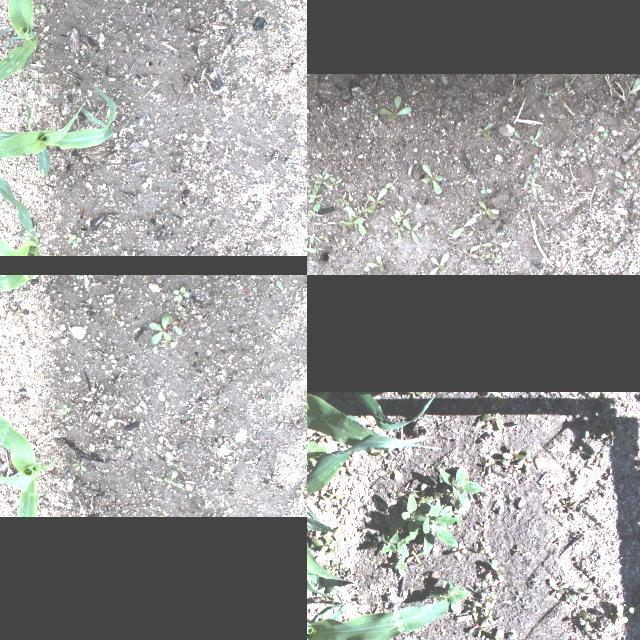crop: (307, 428, 375, 600), (0, 84, 119, 175), (307, 393, 440, 447), (307, 589, 447, 640), (0, 404, 54, 516), (0, 0, 37, 104), (0, 170, 43, 256), (352, 392, 438, 430)
weed: (400, 496, 456, 552), (440, 467, 482, 511), (28, 58, 52, 122), (428, 580, 468, 614), (144, 310, 180, 344), (376, 96, 412, 120), (366, 182, 394, 212), (381, 530, 411, 558), (337, 206, 365, 234), (450, 212, 478, 238), (439, 496, 463, 524), (420, 163, 442, 193), (524, 169, 544, 201), (160, 463, 184, 489), (469, 200, 499, 220), (307, 440, 330, 465), (310, 536, 340, 554), (62, 232, 86, 252), (613, 170, 637, 190), (402, 218, 420, 244), (482, 560, 503, 582), (429, 252, 449, 275), (393, 206, 412, 230), (548, 578, 570, 598), (274, 414, 294, 434), (578, 417, 598, 437), (481, 411, 501, 431), (389, 216, 405, 240), (136, 0, 156, 18), (154, 225, 172, 245), (364, 255, 384, 273), (171, 286, 191, 304), (526, 126, 542, 148), (579, 610, 595, 632), (31, 0, 52, 16), (116, 189, 140, 203), (614, 604, 626, 632), (468, 621, 489, 637), (411, 492, 441, 503), (474, 122, 492, 140), (600, 428, 618, 446), (554, 497, 576, 511), (340, 460, 358, 476), (392, 556, 406, 576), (237, 325, 256, 339), (479, 593, 491, 615), (631, 518, 640, 547), (294, 483, 307, 503), (334, 191, 350, 207), (70, 458, 86, 474), (171, 307, 187, 323), (308, 185, 322, 203), (56, 399, 70, 417), (453, 542, 467, 560), (501, 461, 523, 472), (324, 177, 344, 189), (314, 172, 330, 186), (311, 196, 325, 212), (622, 259, 636, 275), (578, 458, 594, 472), (312, 490, 326, 506), (407, 550, 425, 562), (594, 409, 608, 423), (485, 247, 501, 259), (462, 247, 478, 259), (469, 242, 493, 250), (484, 458, 496, 474), (481, 610, 494, 624), (307, 239, 317, 257), (68, 275, 87, 284), (317, 502, 331, 514), (590, 452, 604, 464), (337, 500, 349, 514), (10, 226, 20, 242), (504, 452, 524, 460), (328, 486, 340, 499), (0, 198, 9, 215), (307, 178, 316, 194), (580, 588, 592, 600), (573, 445, 587, 455), (629, 607, 640, 619), (518, 452, 530, 463), (122, 124, 138, 132), (486, 392, 502, 400), (632, 579, 640, 594), (478, 543, 490, 553), (408, 392, 426, 398), (370, 448, 388, 454), (307, 235, 320, 243), (564, 592, 574, 602), (597, 480, 607, 490), (336, 565, 346, 575), (478, 188, 492, 195), (510, 543, 518, 555), (532, 153, 538, 167), (470, 606, 476, 620), (598, 593, 610, 599), (594, 633, 604, 640), (635, 511, 640, 524), (493, 635, 506, 640), (496, 401, 504, 409), (477, 566, 483, 576), (472, 600, 482, 606), (328, 561, 334, 571), (634, 597, 640, 606), (396, 490, 404, 496), (596, 630, 606, 634), (608, 468, 612, 478), (496, 630, 500, 634), (483, 639, 491, 640)
